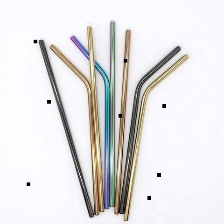drinking_straw: (119, 50, 193, 224), (30, 36, 97, 220), (105, 16, 119, 209)
